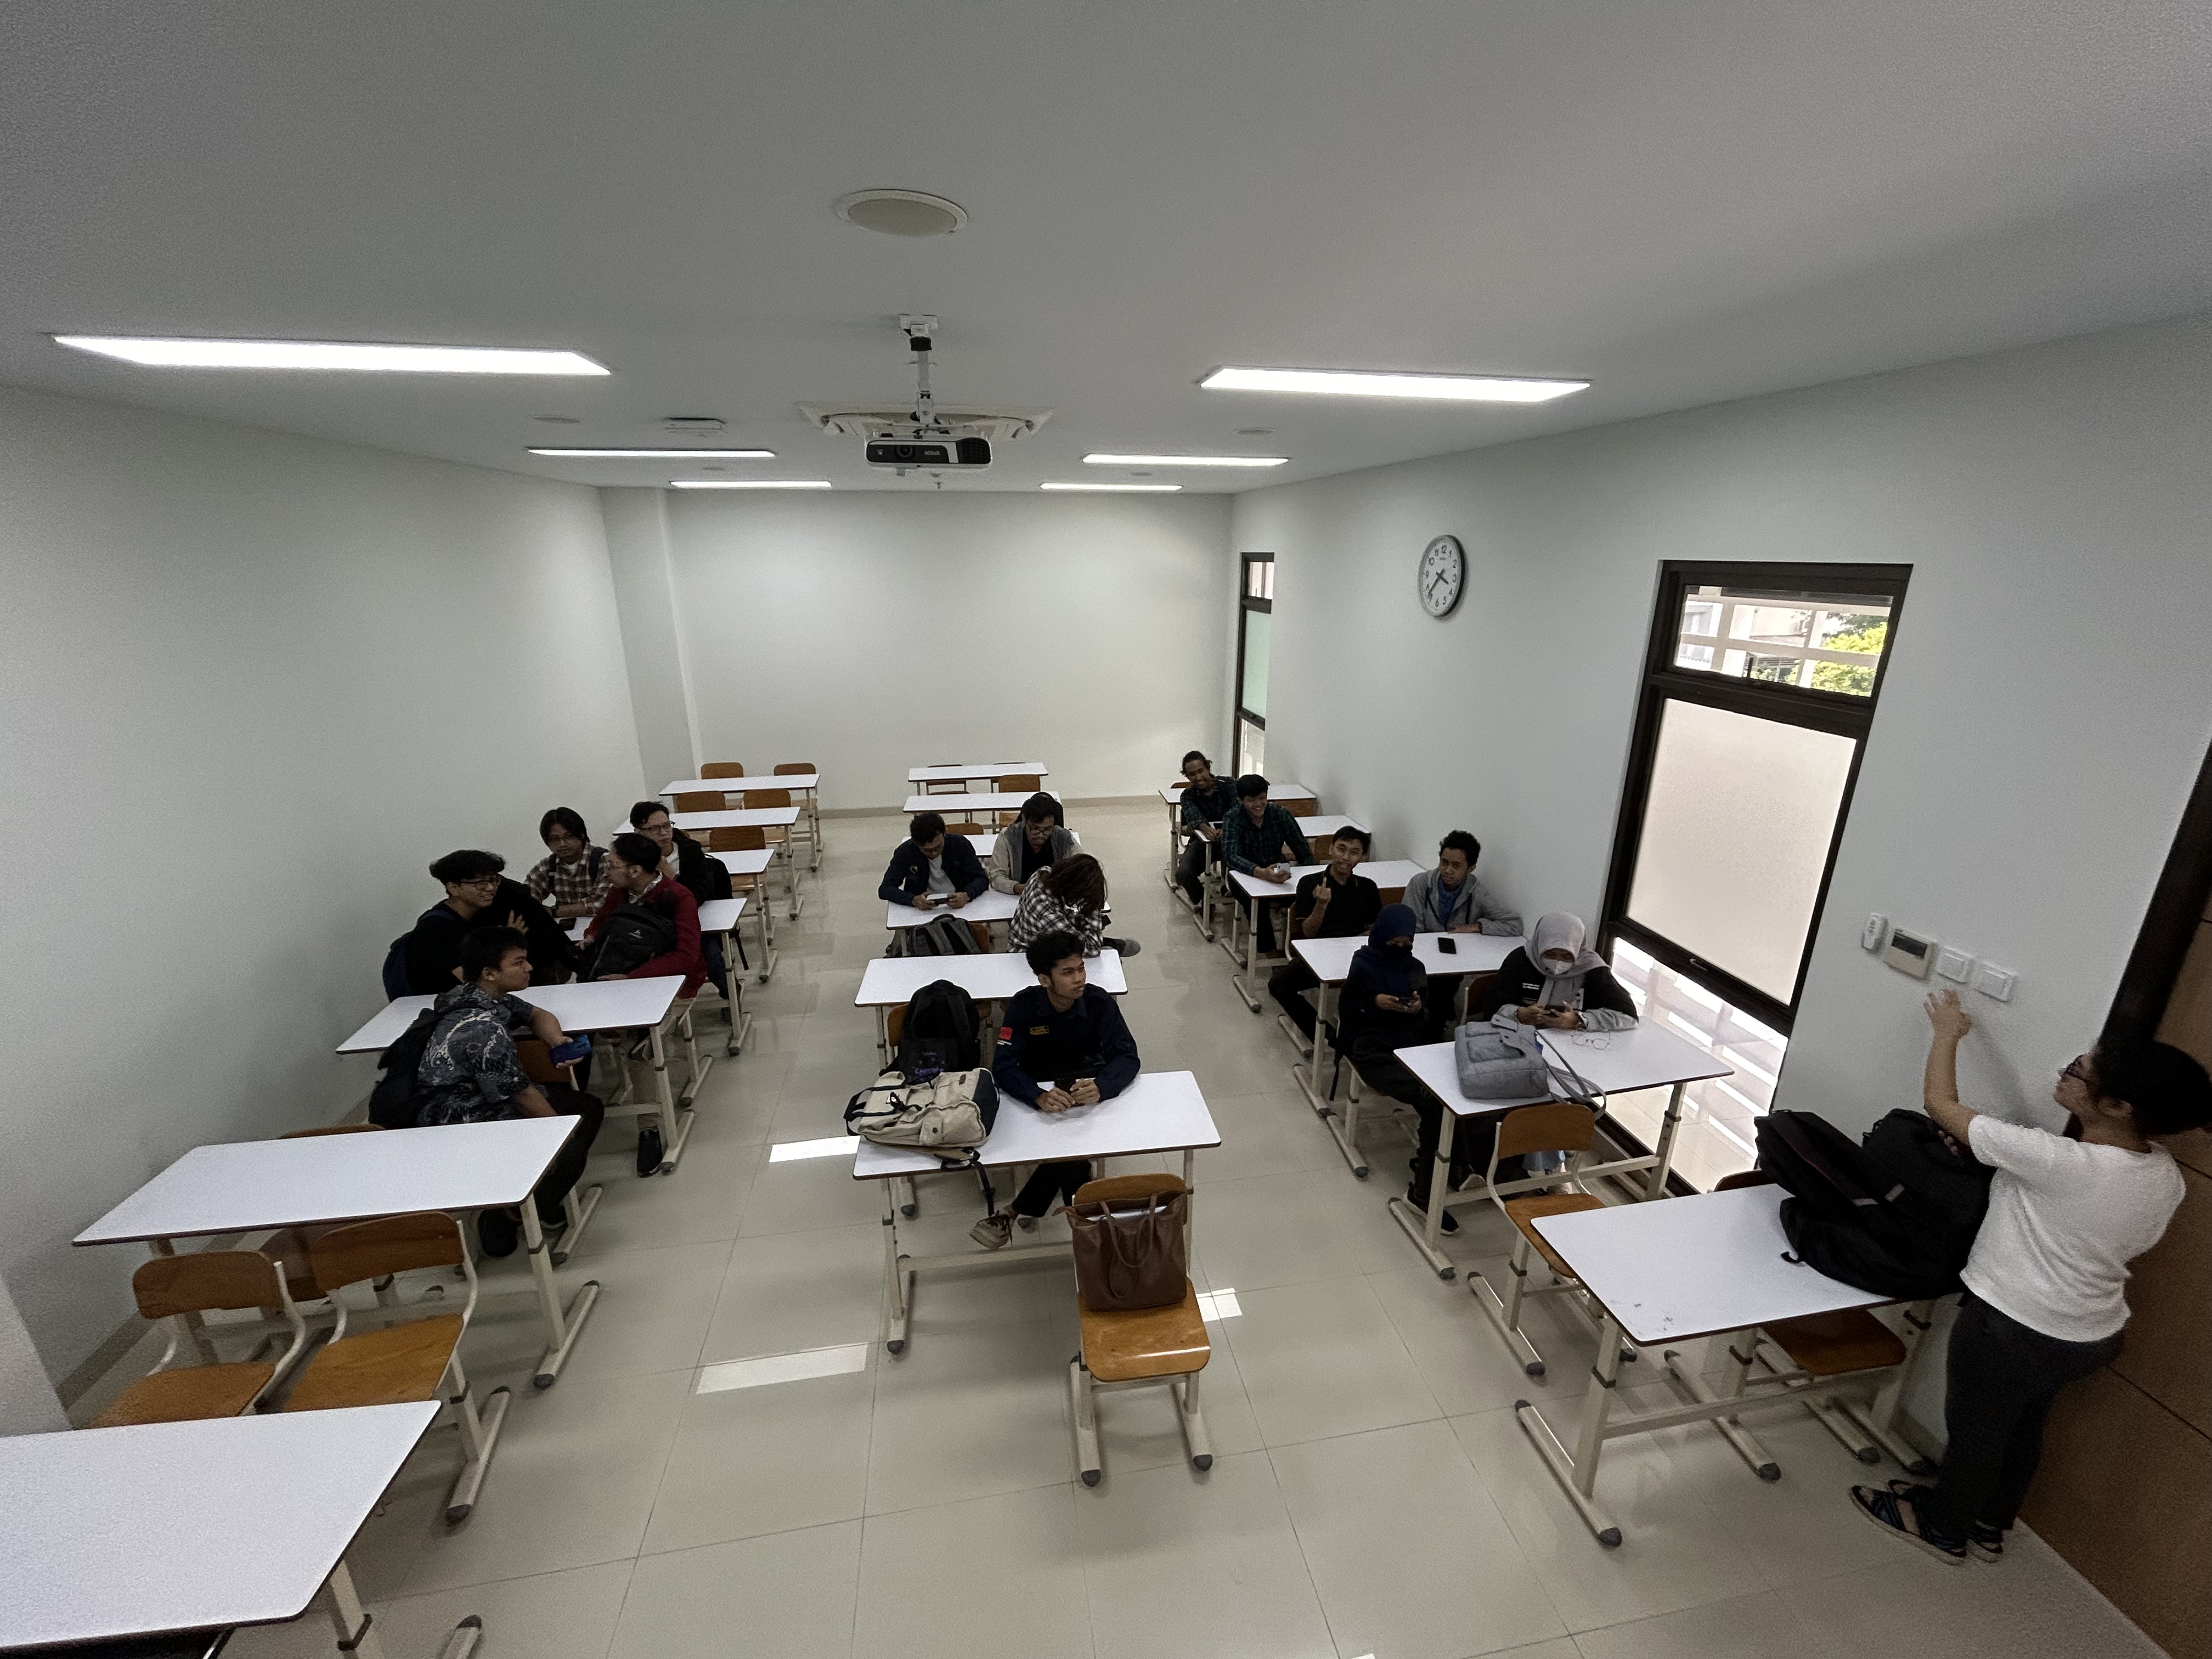person: (409, 943, 560, 1115), (993, 930, 1149, 1092), (1524, 906, 1625, 1024), (1352, 909, 1431, 1041), (413, 851, 531, 935), (611, 843, 685, 973), (885, 812, 988, 901), (533, 792, 602, 912), (1422, 827, 1504, 929), (1310, 820, 1372, 935), (1233, 770, 1293, 870), (1003, 797, 1064, 860), (1167, 742, 1223, 812), (623, 797, 692, 851)
